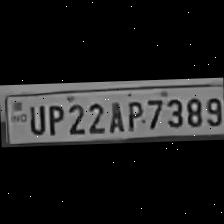2: (84, 98, 106, 134), (64, 100, 84, 135)
3: (163, 96, 183, 128)
7: (143, 95, 163, 130)
8: (183, 94, 203, 128)
9: (202, 93, 222, 126)
A: (105, 97, 125, 132)
P: (42, 100, 64, 136), (122, 96, 144, 130)
U: (24, 102, 44, 135)
